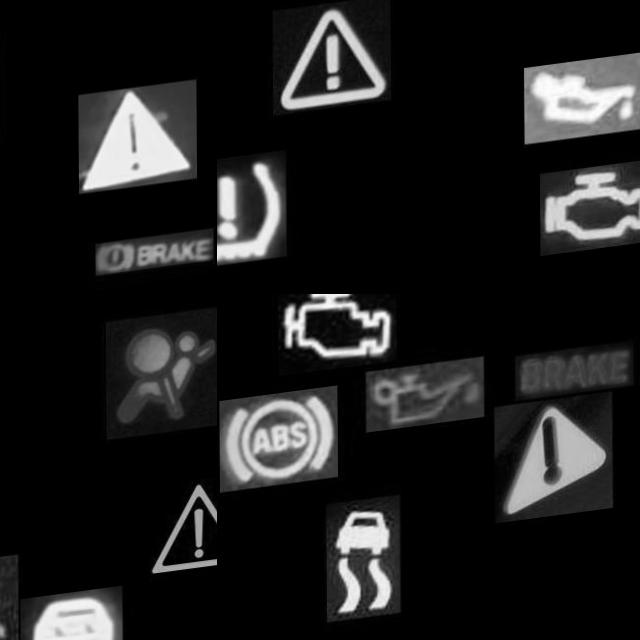Central Warning lamp: (494, 408, 612, 537), (272, 5, 391, 122), (78, 91, 196, 202), (139, 472, 217, 603)
